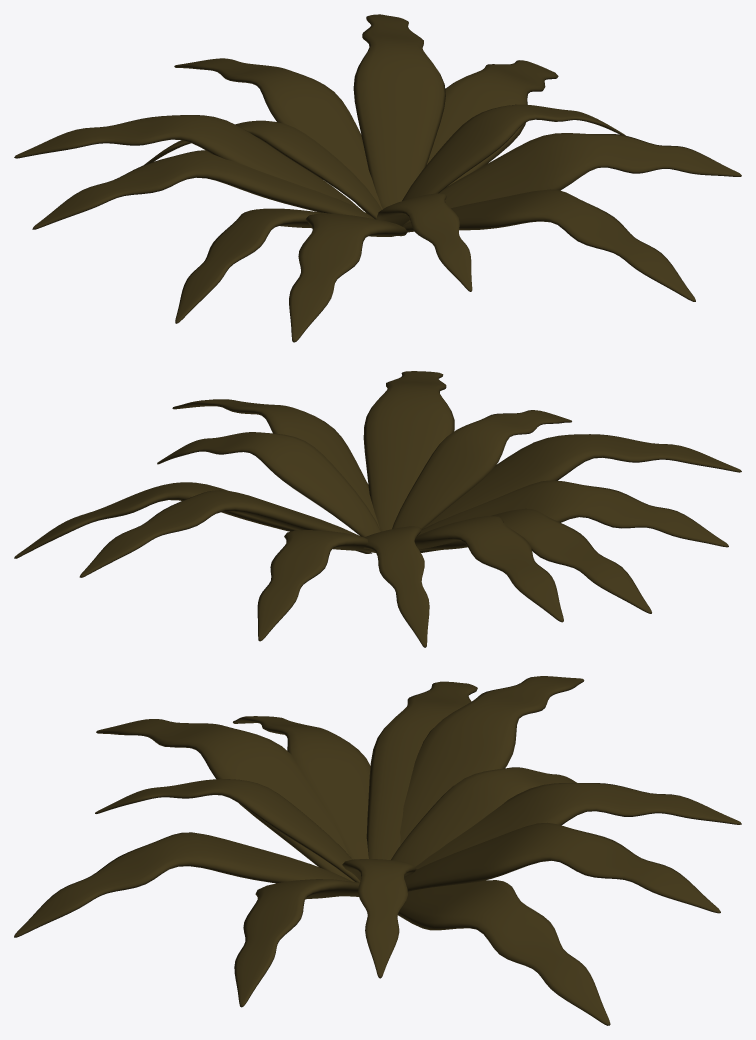
Rendered from maleza.fbx.
3 renders of one model, top to bottom at view 1: azimuth 30°, elevation 25°; view 2: azimuth 150°, elevation 25°; view 3: azimuth 270°, elevation 25°, orthographic. The views are drawn at different scales.
Visible parts, largest first — view 1: Cubo.730, Cubo.720, Cubo.731, Cubo.728, Cubo.729, Cubo.722, Cubo.727, Cubo.725, Cubo.726, Cubo.721, Cubo.724, Cubo.723; view 2: Cubo.731, Cubo.727, Cubo.723, Cubo.721, Cubo.725, Cubo.730, Cubo.728, Cubo.729, Cubo.722, Cubo.720, Cubo.724, Cubo.726; view 3: Cubo.726, Cubo.730, Cubo.728, Cubo.731, Cubo.727, Cubo.722, Cubo.729, Cubo.721, Cubo.724, Cubo.720, Cubo.723, Cubo.725.
Part boxes in pixels (x1,y1,x2,y2): Cubo.730: (353,14,445,208); Cubo.720: (402,133,741,225); Cubo.731: (402,189,695,301); Cubo.728: (14,115,362,210); Cubo.729: (32,150,373,229); Cubo.722: (174,58,382,216); Cubo.727: (289,213,407,342); Cubo.725: (402,104,625,200); Cubo.726: (427,60,558,186); Cubo.721: (175,208,329,323); Cubo.724: (144,120,381,219); Cubo.723: (377,193,472,291); Cubo.731: (363,371,454,531); Cubo.727: (423,434,741,528); Cubo.723: (392,410,571,529); Cubo.721: (418,480,728,552); Cubo.725: (157,432,380,537); Cubo.730: (79,490,359,577); Cubo.728: (414,516,563,622); Cubo.729: (419,508,651,613); Cubo.722: (257,530,375,641); Cubo.720: (172,399,379,528); Cubo.724: (363,526,429,647); Cubo.726: (14,482,371,558); Cubo.726: (397,880,610,1025); Cubo.730: (404,822,720,913); Cubo.728: (400,676,584,845); Cubo.731: (14,832,351,937); Cubo.727: (96,719,354,881); Cubo.722: (415,783,741,869); Cubo.729: (366,681,477,859); Cubo.721: (233,716,370,859); Cubo.724: (391,767,576,866); Cubo.720: (234,879,359,1007); Cubo.723: (95,779,360,882); Cubo.725: (342,859,416,978).
Size of the model in its own units: 2287 by 379 by 2287.
